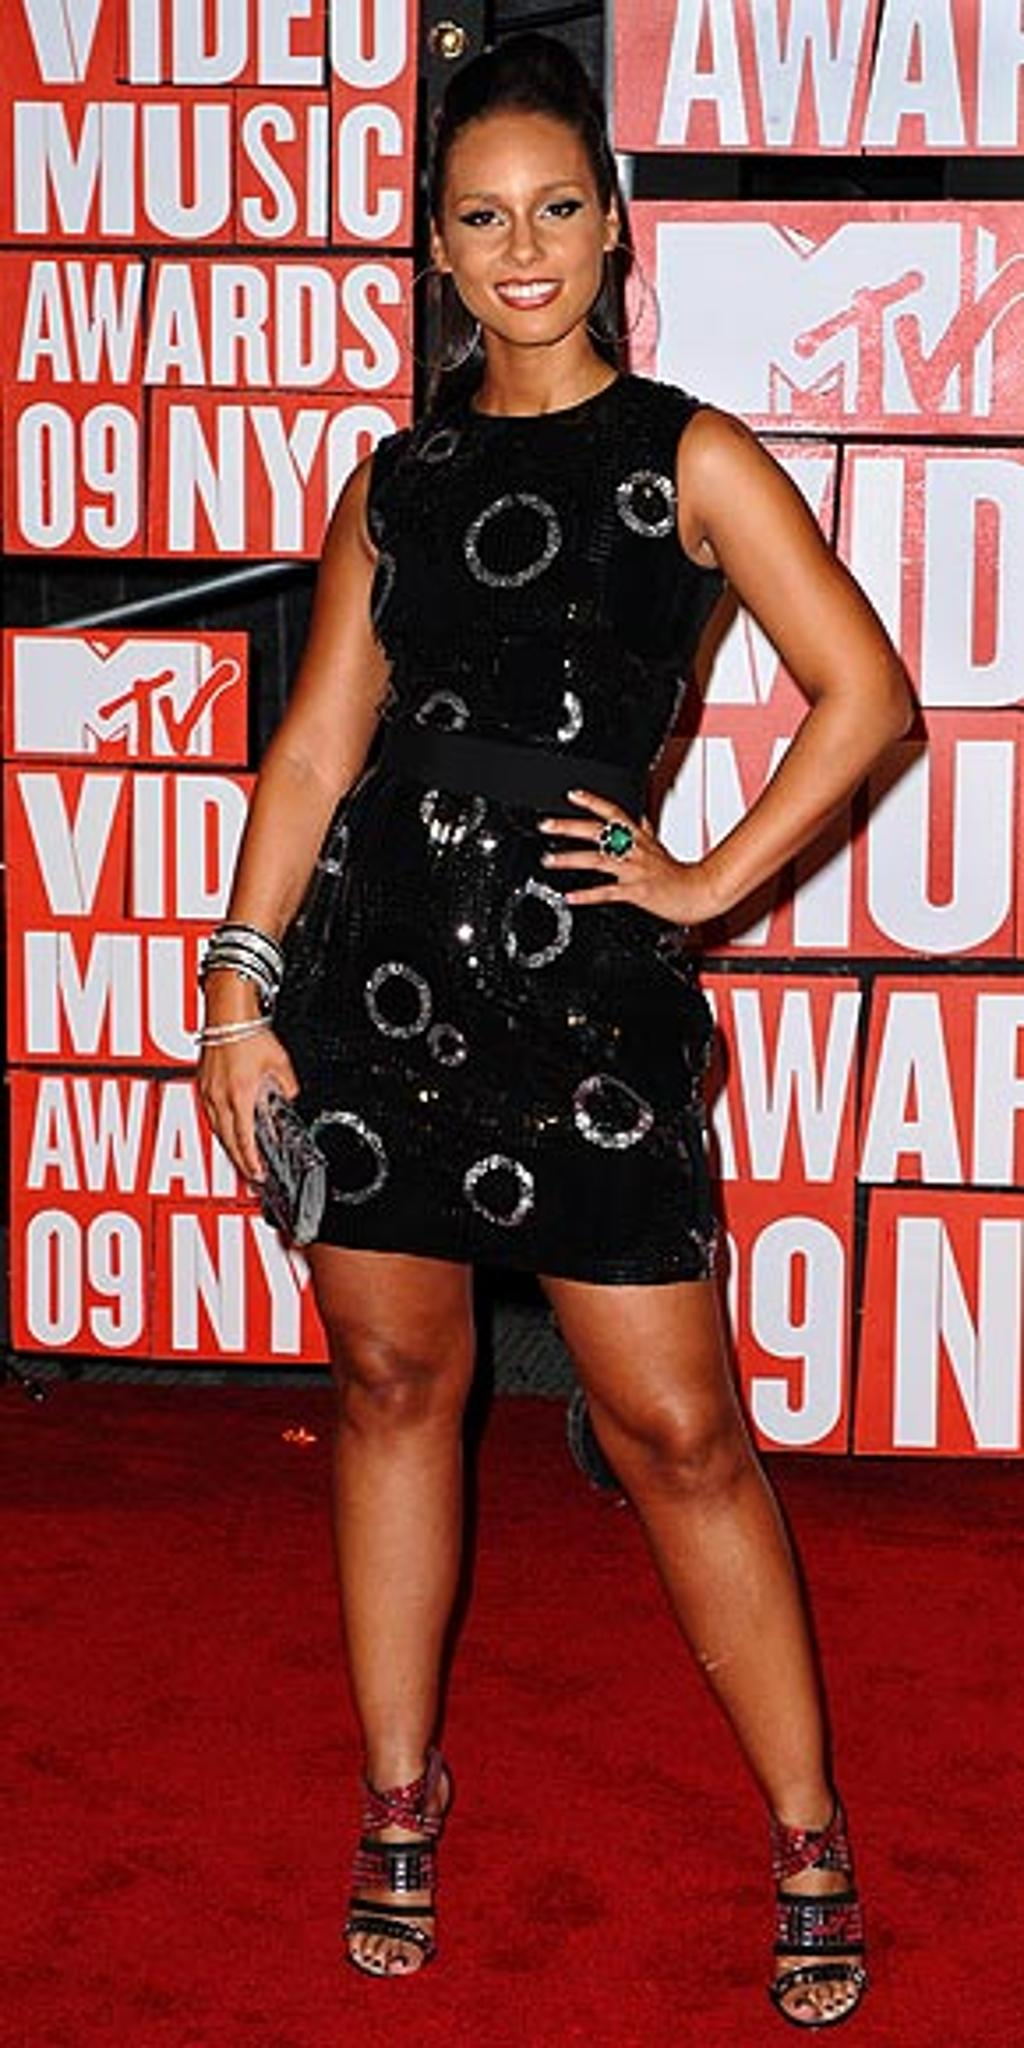face: (440, 112, 608, 348)
